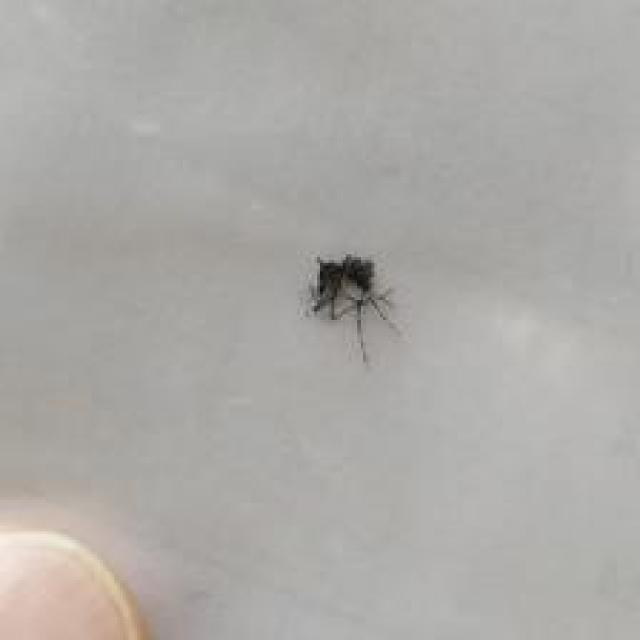Aedes albopictus: (303, 251, 403, 363)
